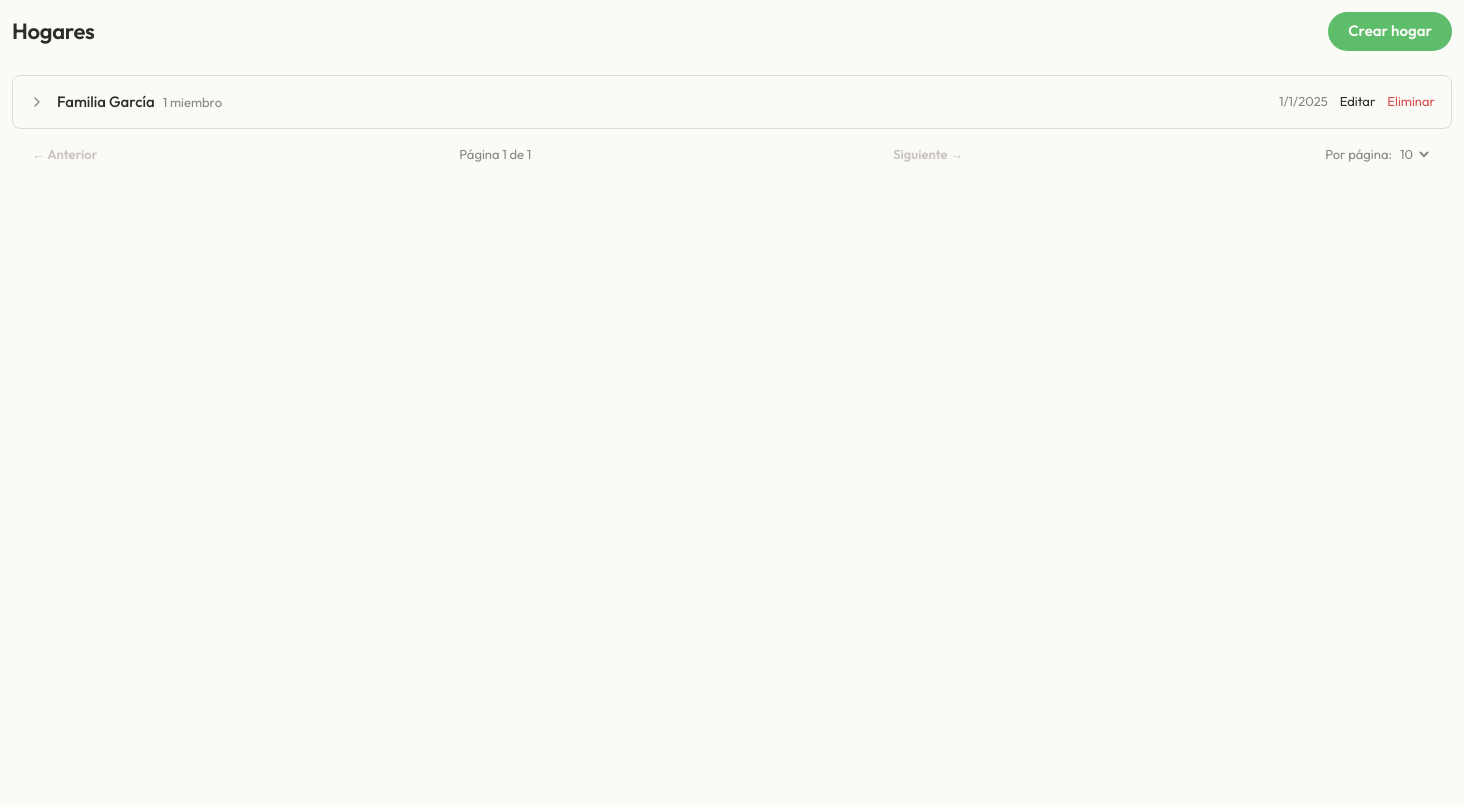
it: Household members (add member flow) › shows add-member form with household name in title when "Agregar miembro" is clicked
This screenshot has width=1464, height=805.
Expected: the text "Familia García" is shown, x1=57 y1=92 x2=155 y2=111
Click the button named "expandir" at [37, 102], box x1=29 y1=94 x2=45 y2=110
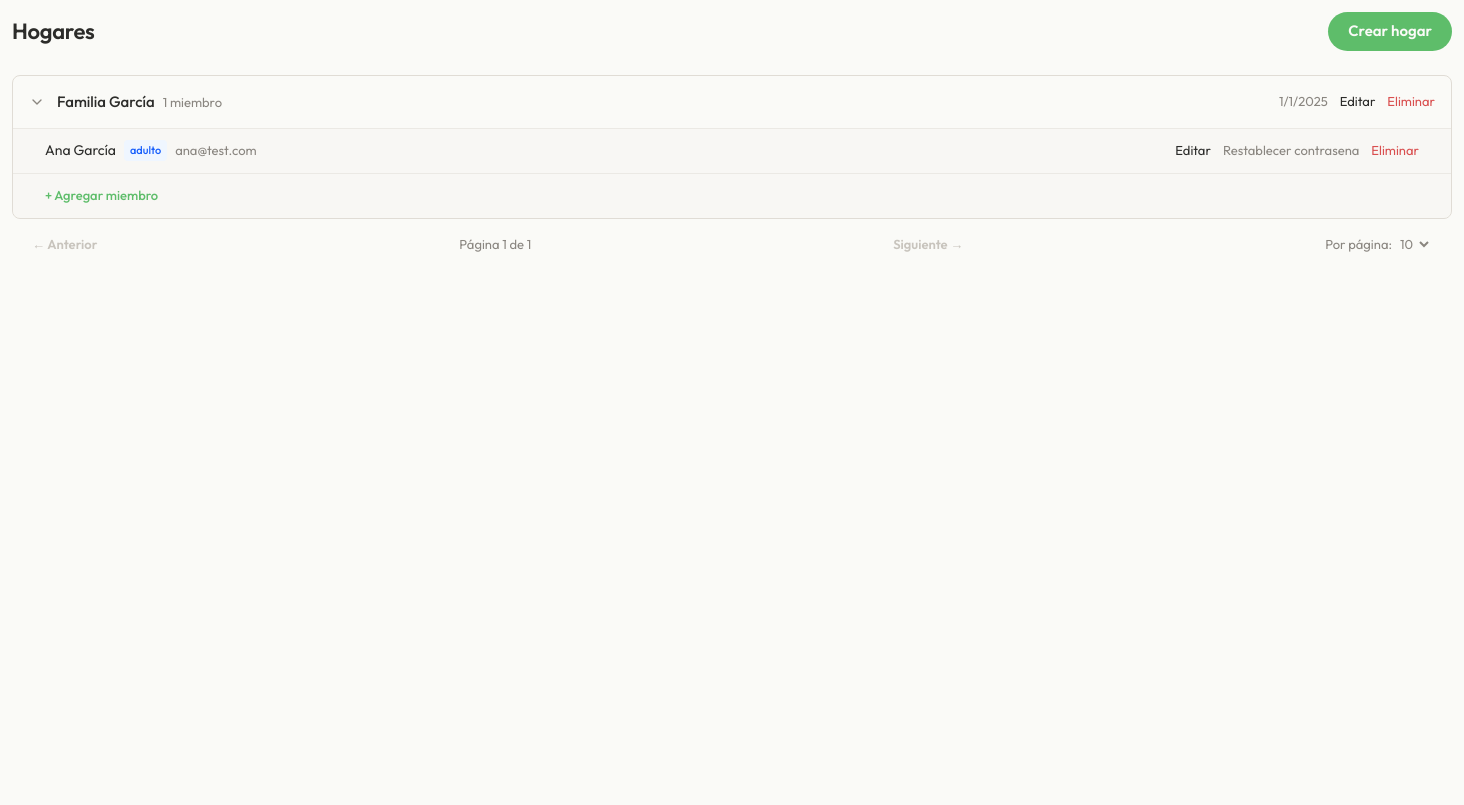
Result: the button "+ Agregar miembro" is shown
Click the button "+ Agregar miembro" at [102, 196], box x1=45 y1=186 x2=158 y2=205
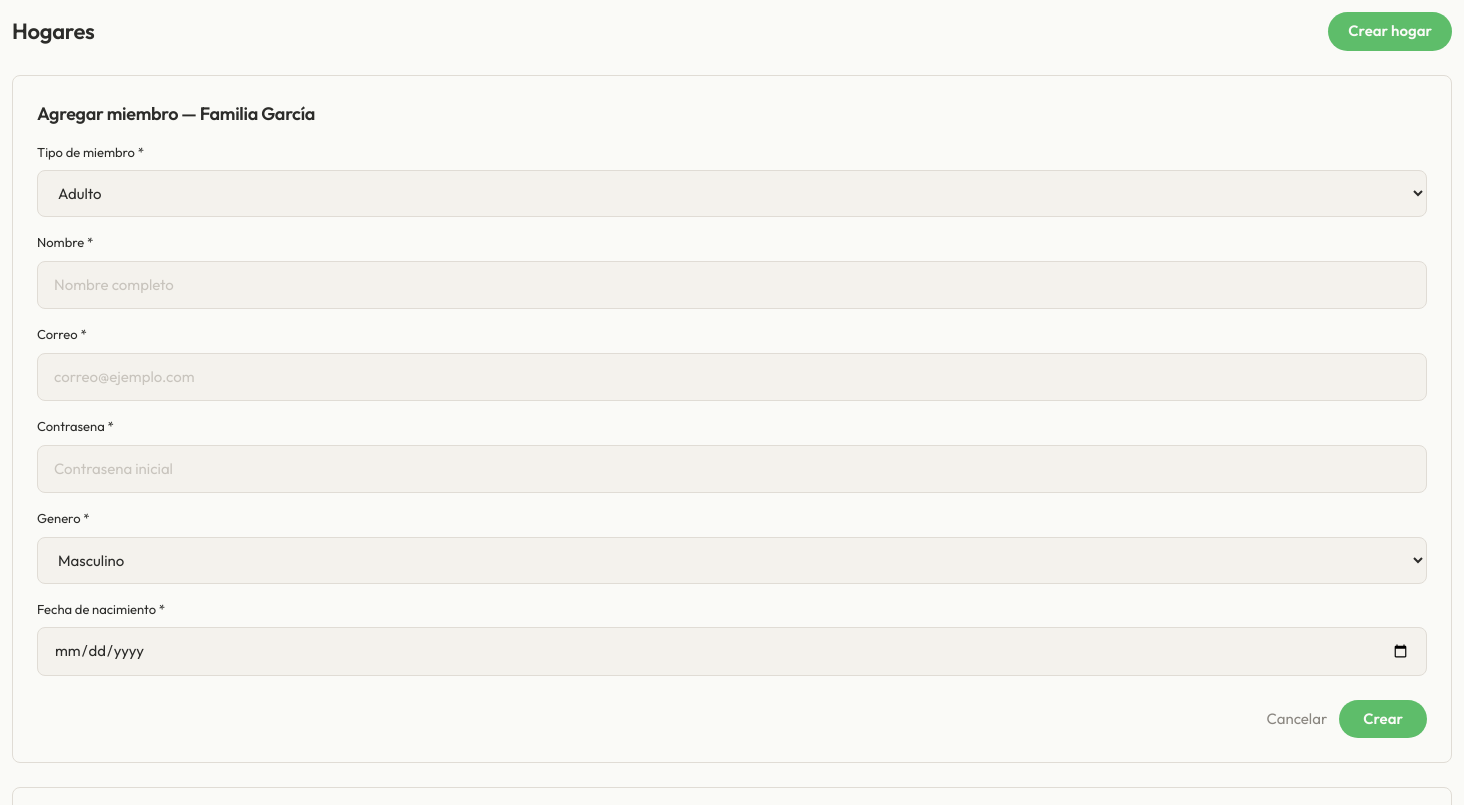
Result: the heading "Agregar miembro — Familia García" is shown at x1=37 y1=102 x2=315 y2=124
